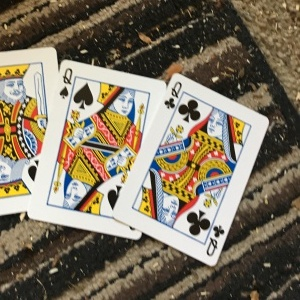card: (119, 73, 266, 264), (29, 59, 165, 238)
